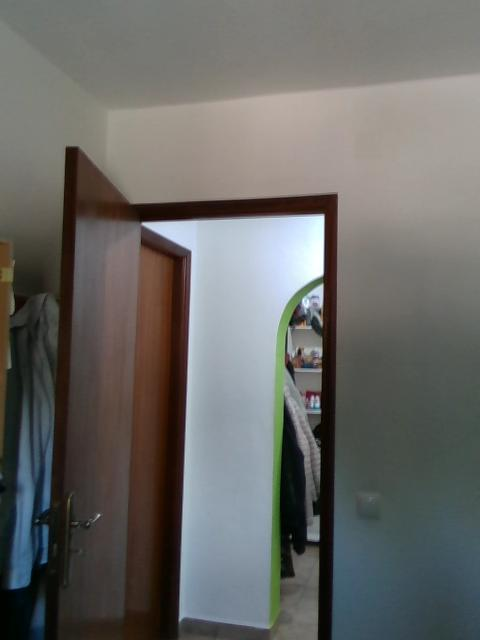open_door: (111, 189, 337, 639)
